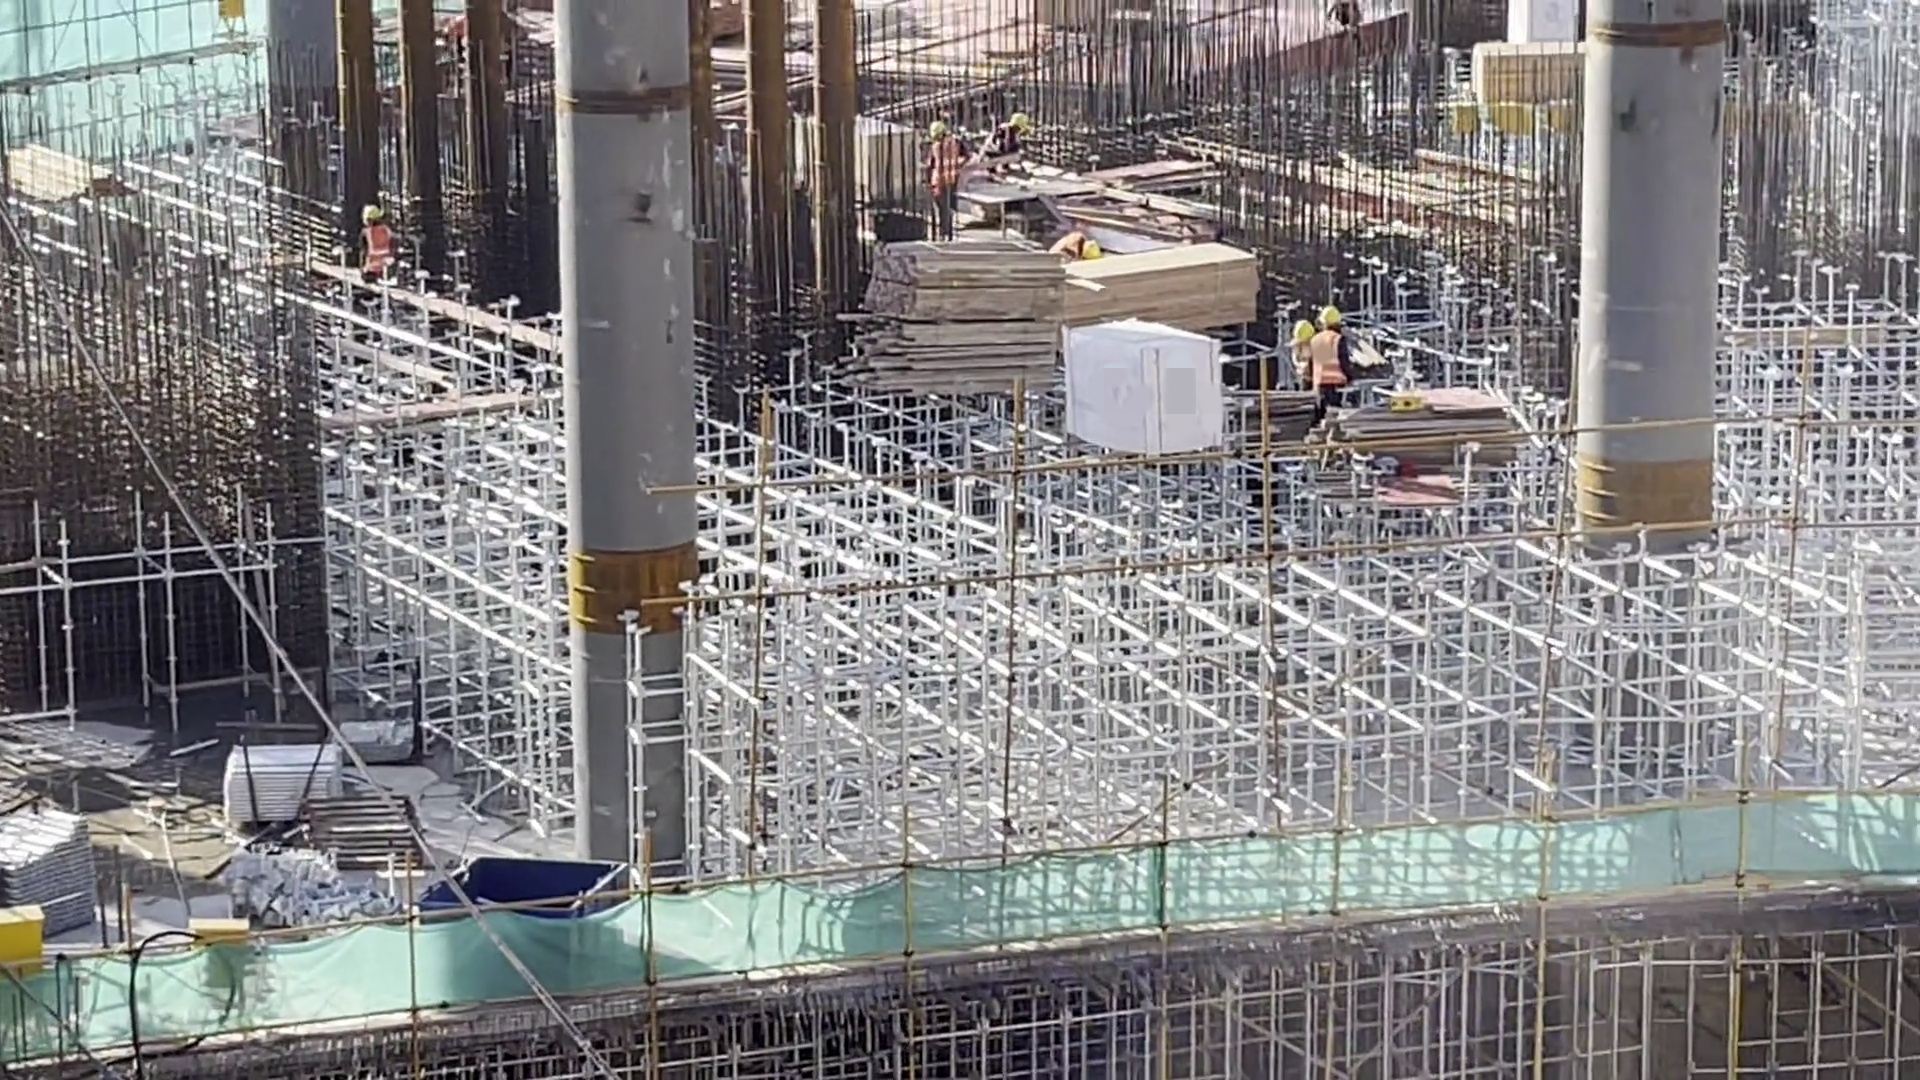board: (1338, 395, 1520, 485), (852, 103, 908, 208)
ebox: (9, 897, 59, 1009), (191, 917, 239, 977)
helmet: (1318, 307, 1346, 331), (1010, 114, 1034, 138), (1084, 240, 1103, 264), (1297, 317, 1317, 338), (363, 203, 386, 220), (929, 121, 947, 138)
hopper: (431, 839, 628, 957)
person: (929, 118, 969, 238), (1316, 308, 1356, 395), (358, 215, 394, 288), (993, 108, 1033, 171), (1053, 233, 1106, 268), (1298, 321, 1314, 365)
scaffold: (11, 817, 111, 924), (244, 737, 339, 824)
vest: (931, 136, 960, 193), (1318, 342, 1353, 388), (369, 229, 389, 273), (982, 130, 1013, 153), (1056, 234, 1079, 254), (1293, 346, 1310, 372)
wood: (891, 234, 1039, 401), (1083, 251, 1244, 312), (1479, 54, 1588, 129), (31, 131, 119, 191)
